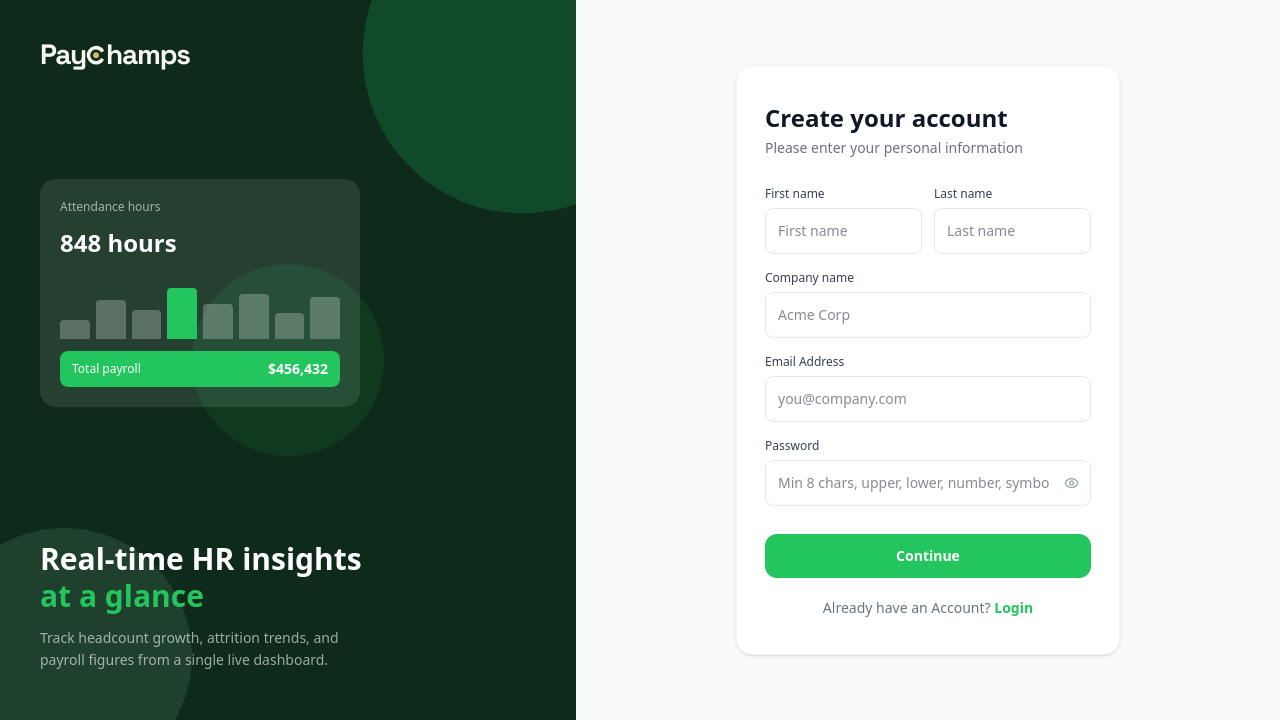
it: Signup page › shows error when company name is missing
This screenshot has width=1280, height=720.
Type "Ibrahim" into the field with placeholder "First name" at (844, 231), box [765, 208, 922, 254]
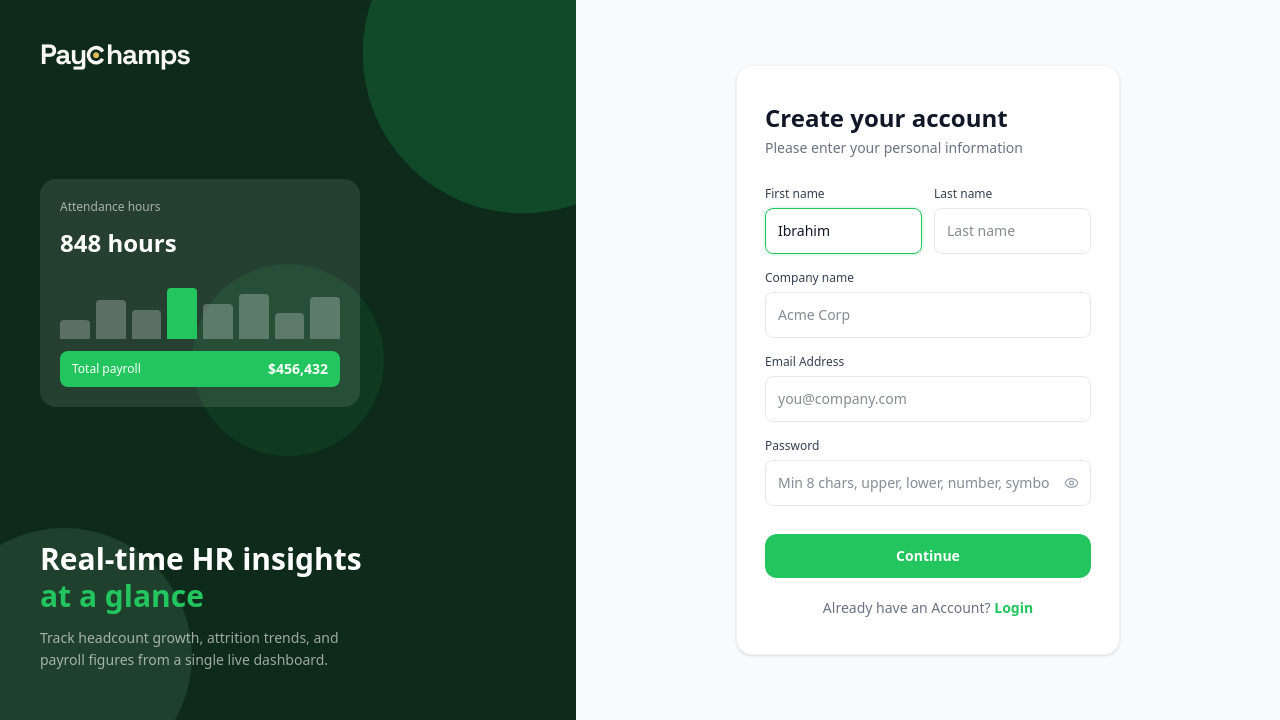
Type "Oladele" into the field with placeholder "Last name" at (1012, 231), box [934, 208, 1091, 254]
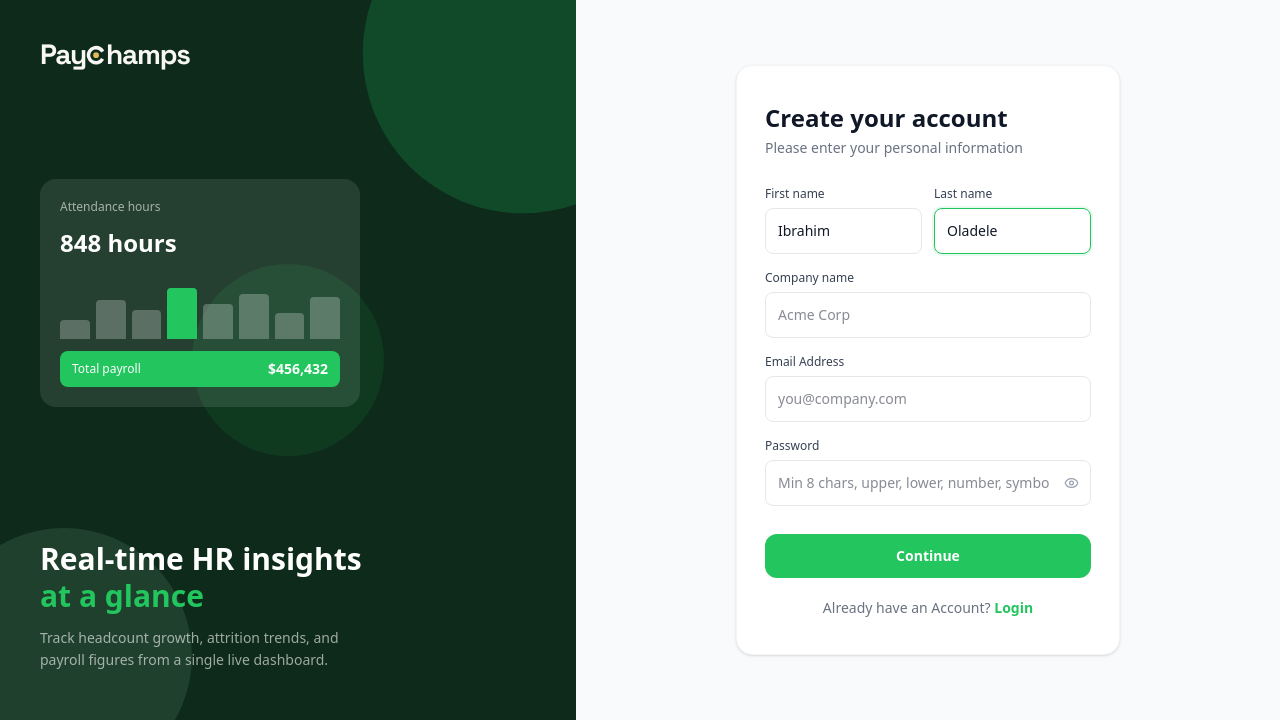
Type "ibrahim@monsterlabs.org" into the field with placeholder "you@company.com" at (928, 399), box [765, 376, 1091, 422]
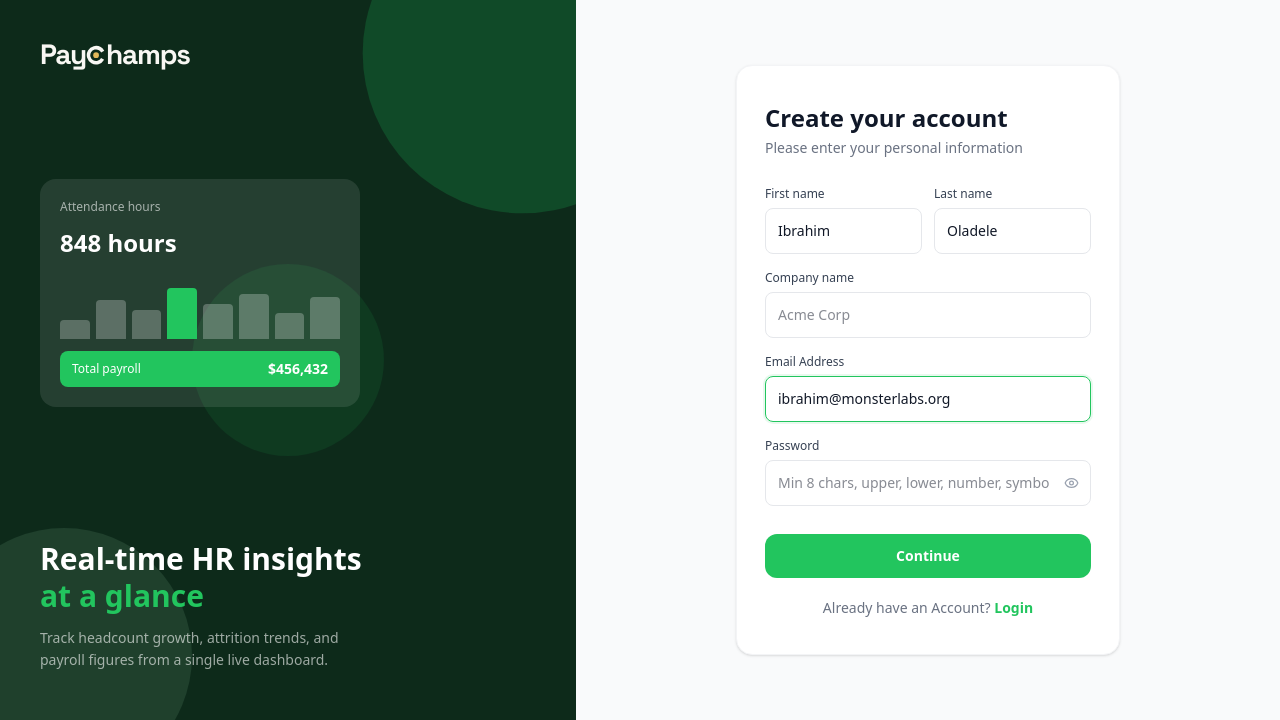
Type "Password123!" into the password field with placeholder "Min 8 chars, upper, lower, number, symbol" at (928, 483), box [765, 460, 1091, 506]
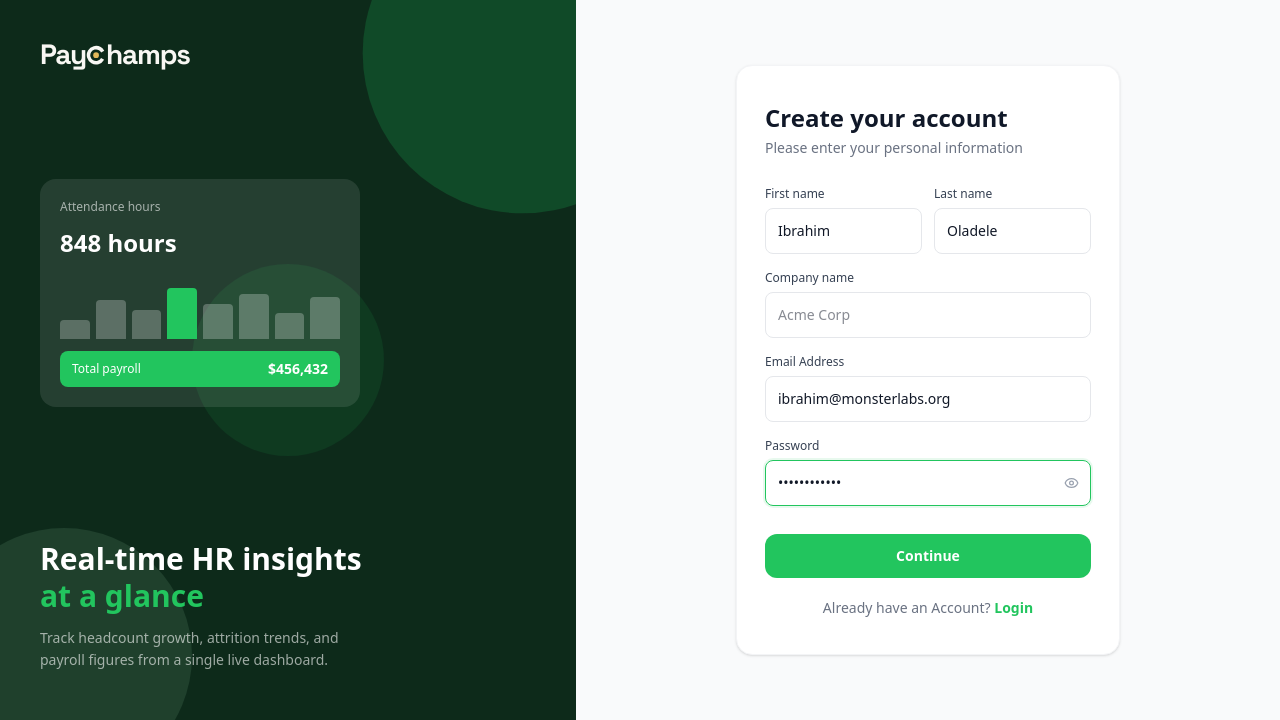
Click the button "Continue" at (928, 556), box [765, 534, 1091, 578]
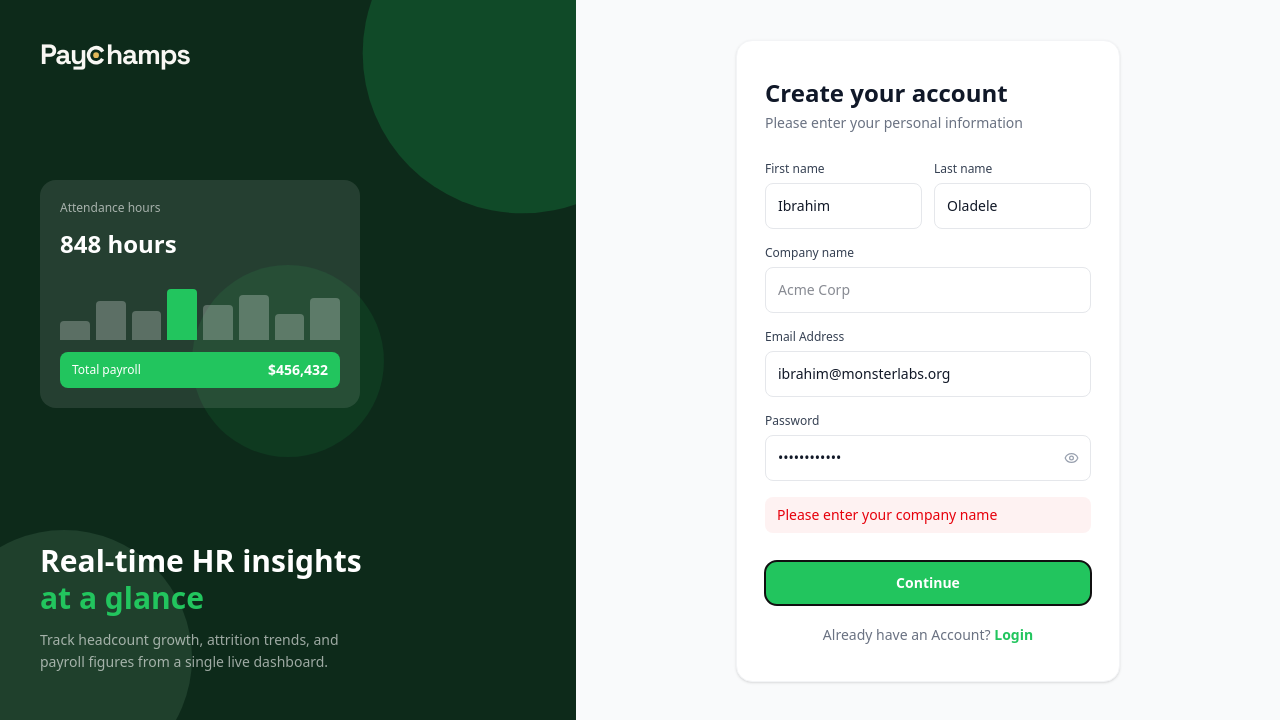
Result: the text "Please enter your company name" is shown at [765, 497, 1091, 533]
